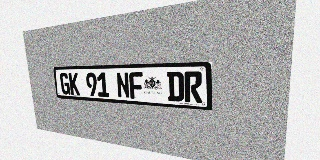1: (96, 72, 109, 97)
9: (85, 72, 98, 96)
D: (167, 71, 184, 102)
F: (129, 72, 144, 99)
G: (59, 73, 71, 95)
K: (68, 73, 80, 95)
N: (116, 72, 130, 98)
R: (184, 71, 202, 103)
